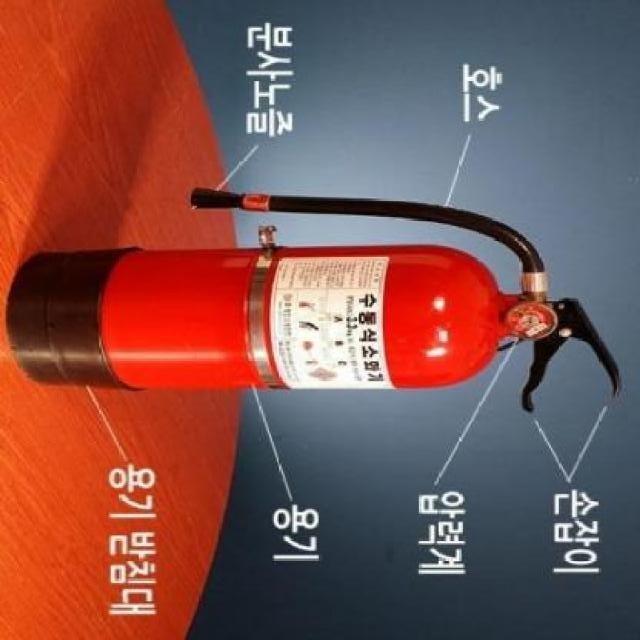fire extinguisher: (6, 188, 623, 415)
